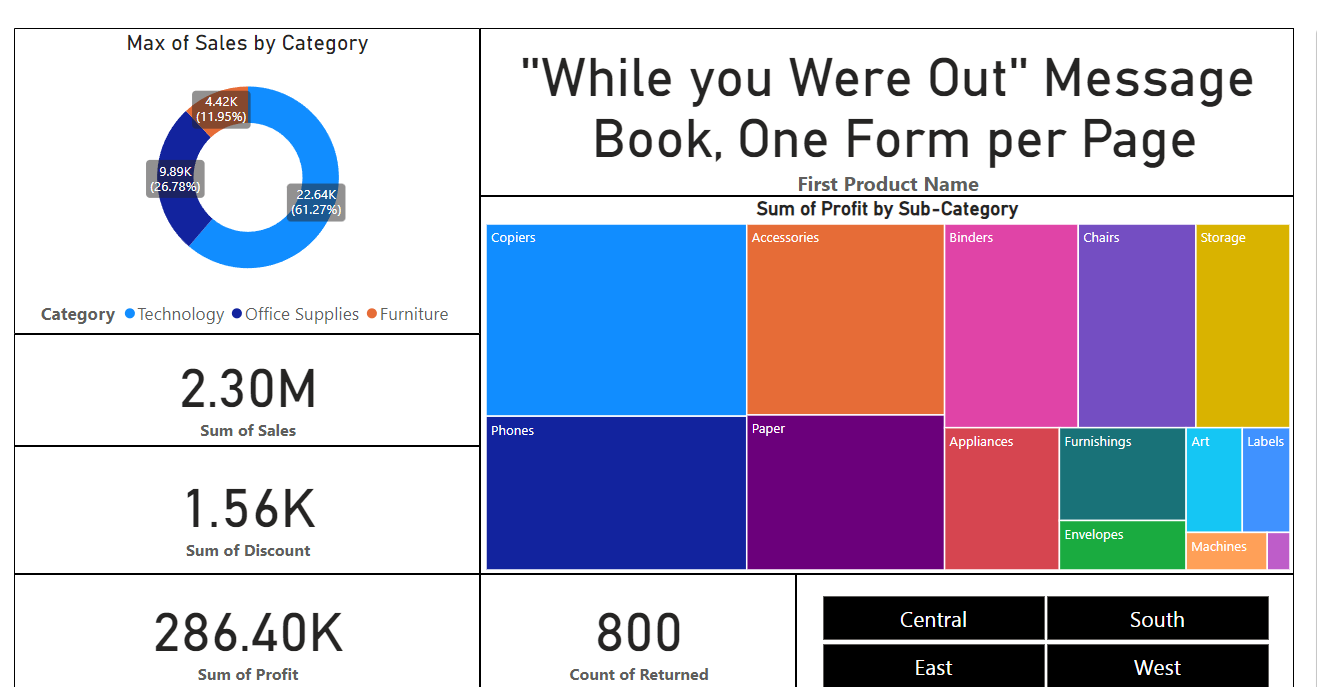

What the dashboard file says about the page in this screenshot:
{"tool":"powerbi","page":{"name":"Product Analysis","canvas":[1280,720],"ordinal":3},"visuals":[{"type":"donutChart","fields":{"Category":["Orders.Category"],"Y":["Max(Orders.Sales)"]},"box":[0,55.4,466.4,305.3],"z":0},{"type":"card","fields":{"Values":["Min(Orders.Product Name)"]},"box":[466.4,55.4,813.6,167.8],"z":1000},{"type":"treemap","fields":{"Values":["Sum(Orders.Profit)"],"Group":["Orders.Sub-Category"]},"box":[466.1,222.7,813.9,378.1],"z":2000},{"type":"card","fields":{"Values":["Sum(Orders.Sales)"]},"box":[0,360.7,466.4,112.4],"z":3000},{"type":"card","fields":{"Values":["Sum(Orders.Discount)"]},"box":[0,473,466.1,127.9],"z":4000},{"type":"card","fields":{"Values":["Sum(Orders.Profit)"]},"box":[0,600.9,466.1,119.8],"z":5000},{"type":"card","fields":{"Values":["CountNonNull(Returns.Returned)"]},"box":[466.1,600.9,316.3,119.8],"z":6000},{"type":"slicer","fields":{"Values":["Orders.Region"]},"box":[782.3,600.9,497.7,119.8],"z":7000}]}

Visuals, with their boxes on the page's 1280x720 design canvas (x1, y1, x2, y2). These are canvas units, not pixel positions in the 1317x687 screenshot, which may show the page scaled, cropped or inside an application window:
donutChart - Orders.Category x Max(Orders.Sales): locate(0, 55, 466, 361)
card - Min(Orders.Product Name): locate(466, 55, 1280, 223)
treemap - Sum(Orders.Profit) x Orders.Sub-Category: locate(466, 223, 1280, 601)
card - Sum(Orders.Sales): locate(0, 361, 466, 473)
card - Sum(Orders.Discount): locate(0, 473, 466, 601)
card - Sum(Orders.Profit): locate(0, 601, 466, 721)
card - CountNonNull(Returns.Returned): locate(466, 601, 782, 721)
slicer - Orders.Region: locate(782, 601, 1280, 721)
